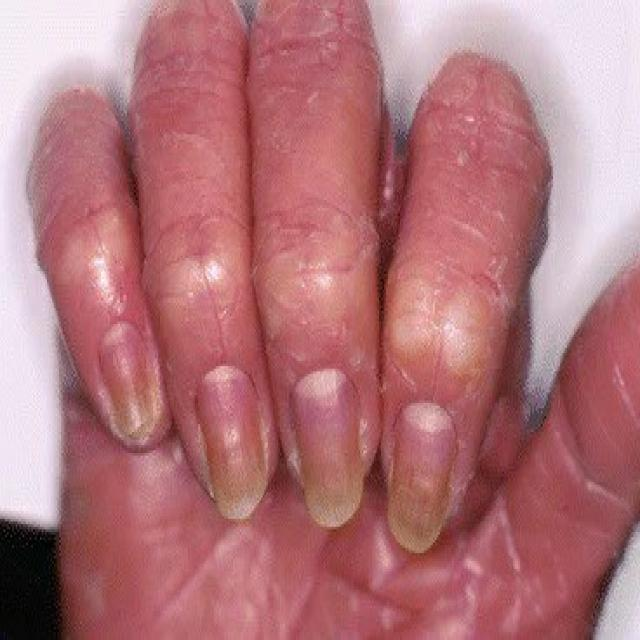diabetes: (190, 362, 266, 519), (290, 369, 362, 522), (389, 400, 453, 550), (98, 319, 152, 436)
